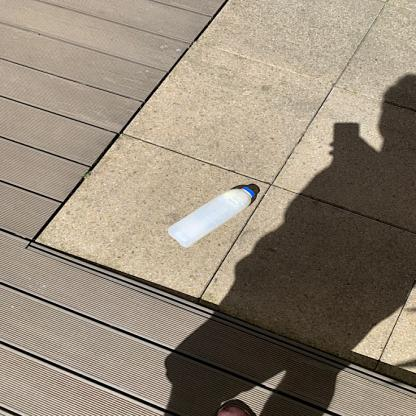trash: (163, 184, 257, 250)
